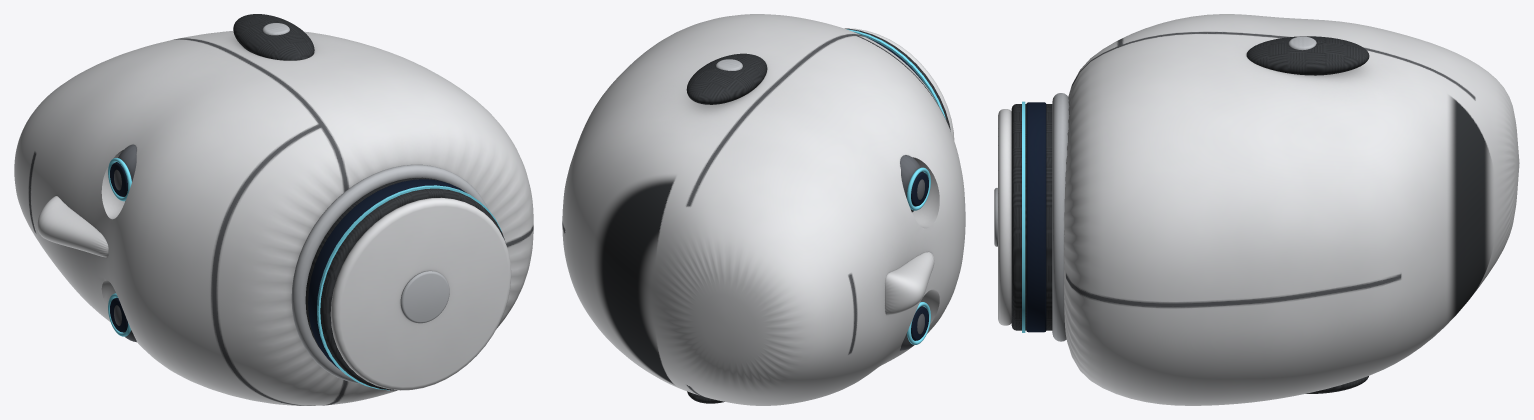
File: head_v2.obj
The picture shows the model from 3 angles, left to right: view 1: azimuth 30°, elevation 25°; view 2: azimuth 150°, elevation 25°; view 3: azimuth 270°, elevation 25°; orthographic projection. The views are drawn at different scales.
Visible parts, largest first — view 1: head_v2; view 2: head_v2; view 3: head_v2.
Boxes of the visible parts, box(x1,y1,x2,y2) form: head_v2: box(14, 14, 533, 405); head_v2: box(562, 14, 965, 405); head_v2: box(994, 14, 1519, 405).
Bounding box in the file's own units: 0.1927 × 0.1553 × 0.2128.
1 material, 1 textured.
